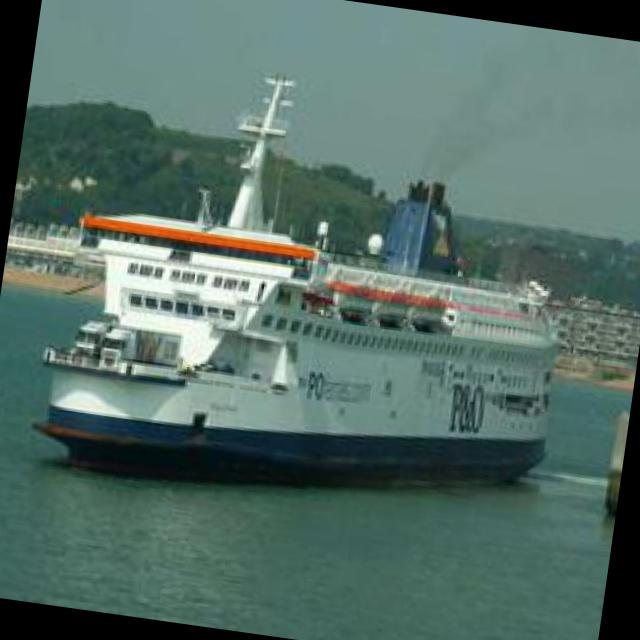boat: (24, 205, 582, 494)
